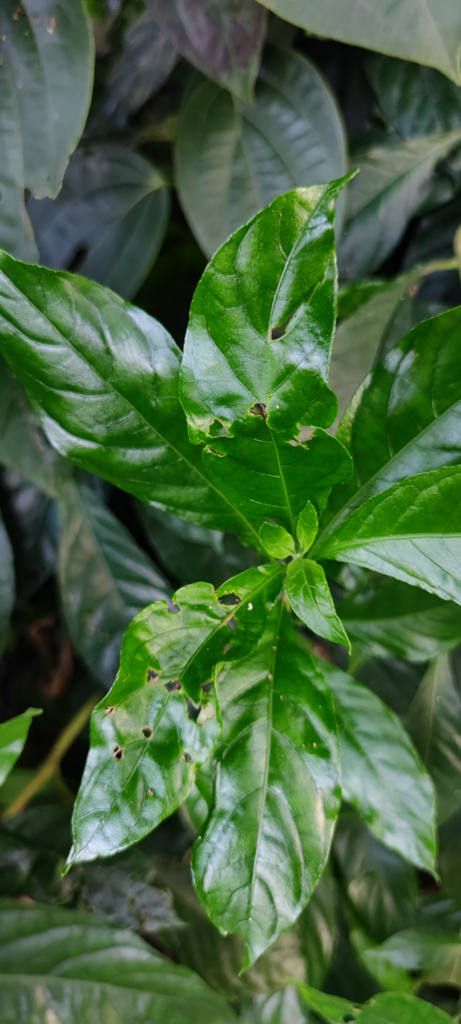frog-eye leafspot: (102, 738, 130, 763), (162, 676, 190, 696), (138, 665, 163, 687), (133, 722, 156, 744), (99, 700, 121, 719), (138, 782, 161, 800), (176, 746, 194, 767)
